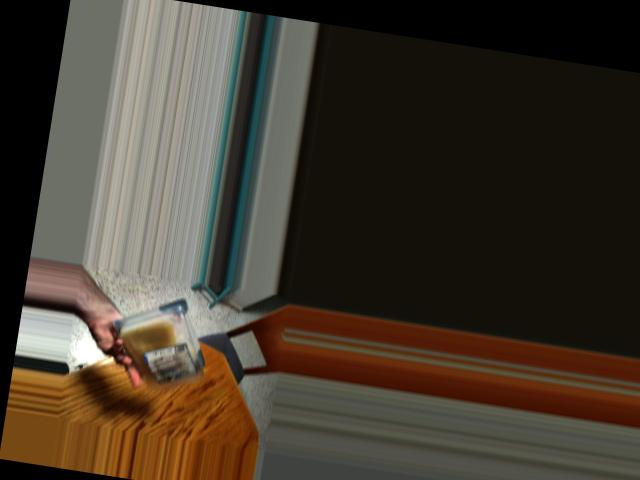cheese: (113, 306, 209, 390)
